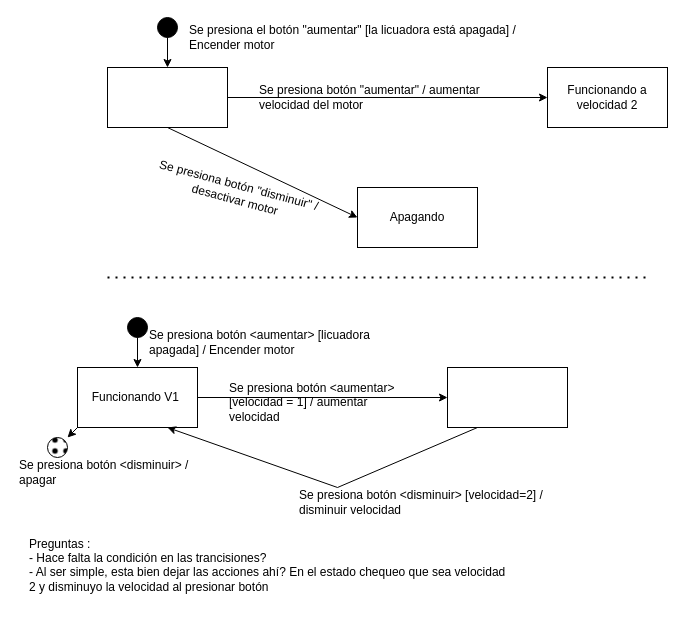
Image size: 685x626. Some labels were removed from this diagram. Here are the shapes that lost their labels. From the top down, the box of each, then its label:
(106, 66, 228, 128): Funcionando a velocidad 1
(446, 366, 568, 428): Funcionando V2
